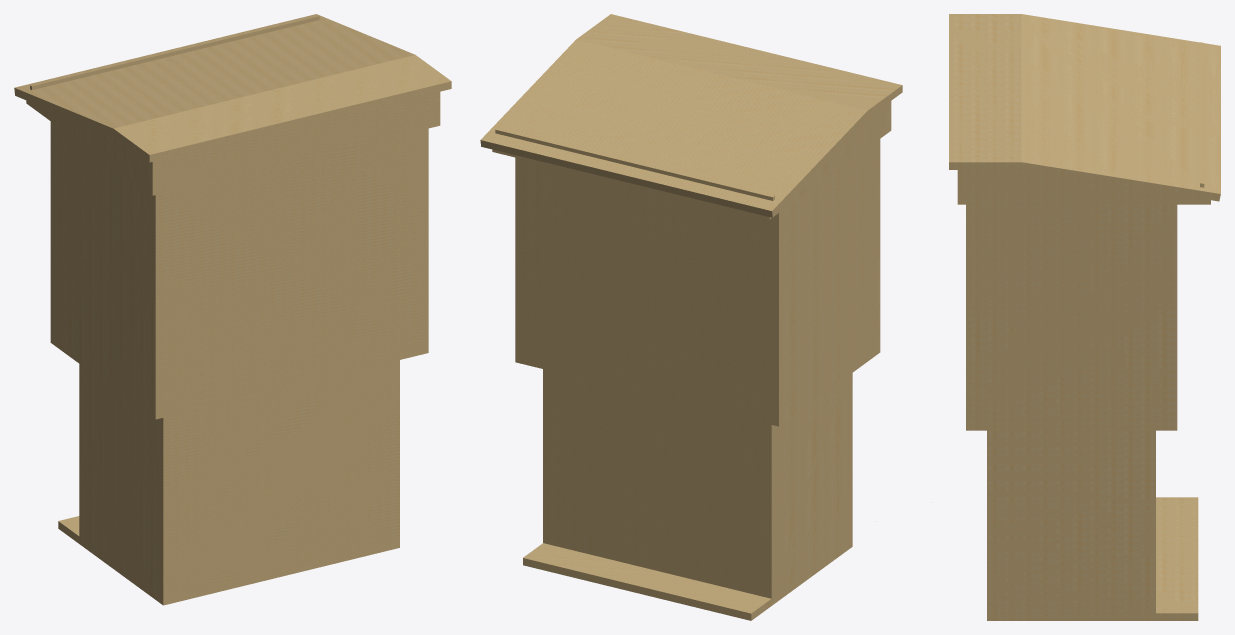
The model's file is Pult_Final.dae.
The picture shows the model from 3 angles, left to right: view 1: azimuth 30°, elevation 25°; view 2: azimuth 150°, elevation 25°; view 3: azimuth 270°, elevation 25°; orthographic projection. The views are drawn at different scales.
Parts seen in each view (by area): view 1: skp66F1 (×3); view 2: skp66F1 (×3); view 3: skp66F1 (×3).
Part boxes in pixels (x1,y1,x2,y2): skp66F1 (×3): [14, 14, 451, 605]; skp66F1 (×3): [480, 14, 902, 620]; skp66F1 (×3): [949, 14, 1220, 620].
Size of the model in its own units: 32677 by 26995 by 48819.
